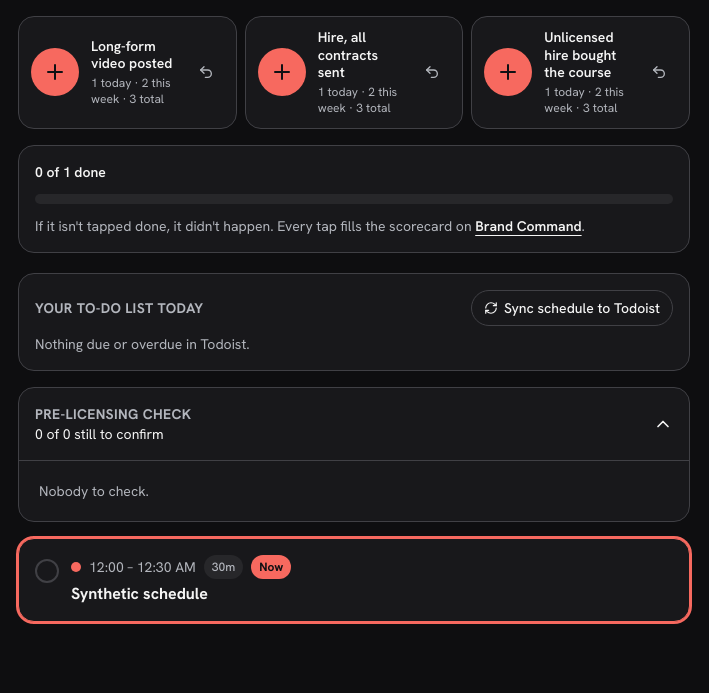
Scenario: private task entry points › requires durable enqueue before showing or sending a checkmark
(page scrolled)
Click the button "12:00 – 12:30 AM 30m Now Synthetic schedule" at [142, 566], box [18, 538, 690, 622]
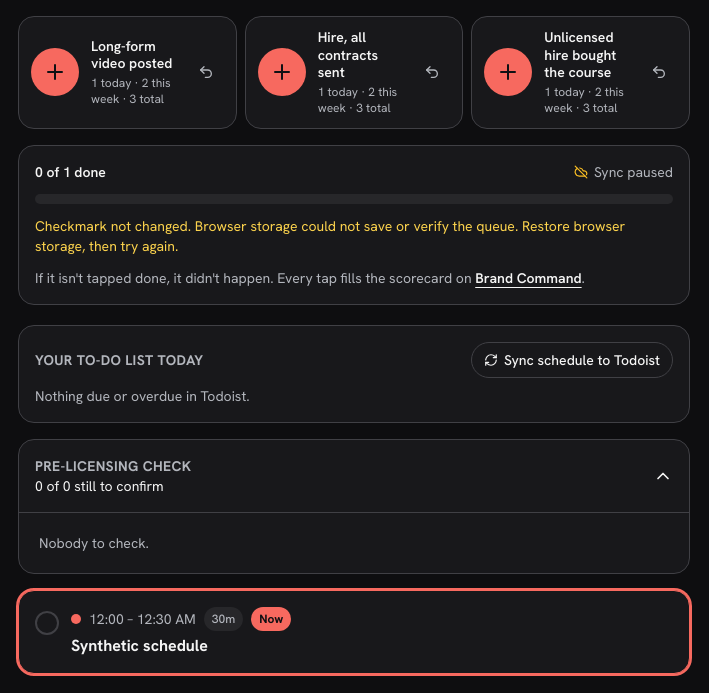
Check: the text "Saved" is not shown
Check: the message shows "Checkmark not changed", box [35, 216, 625, 254]
Click the button "12:00 – 12:30 AM 30m Now Synthetic schedule" at [142, 618], box [18, 590, 690, 674]
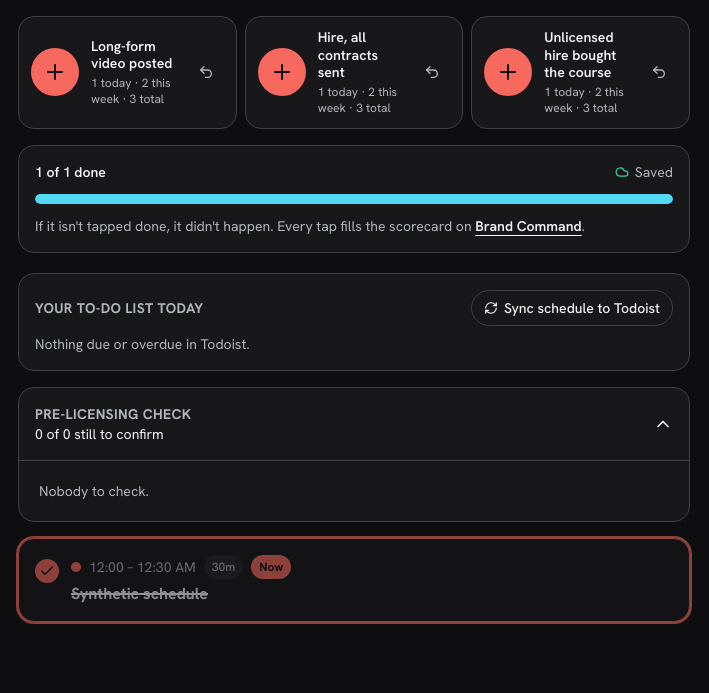
Check: the text "Saved" is shown, box [615, 162, 673, 182]
